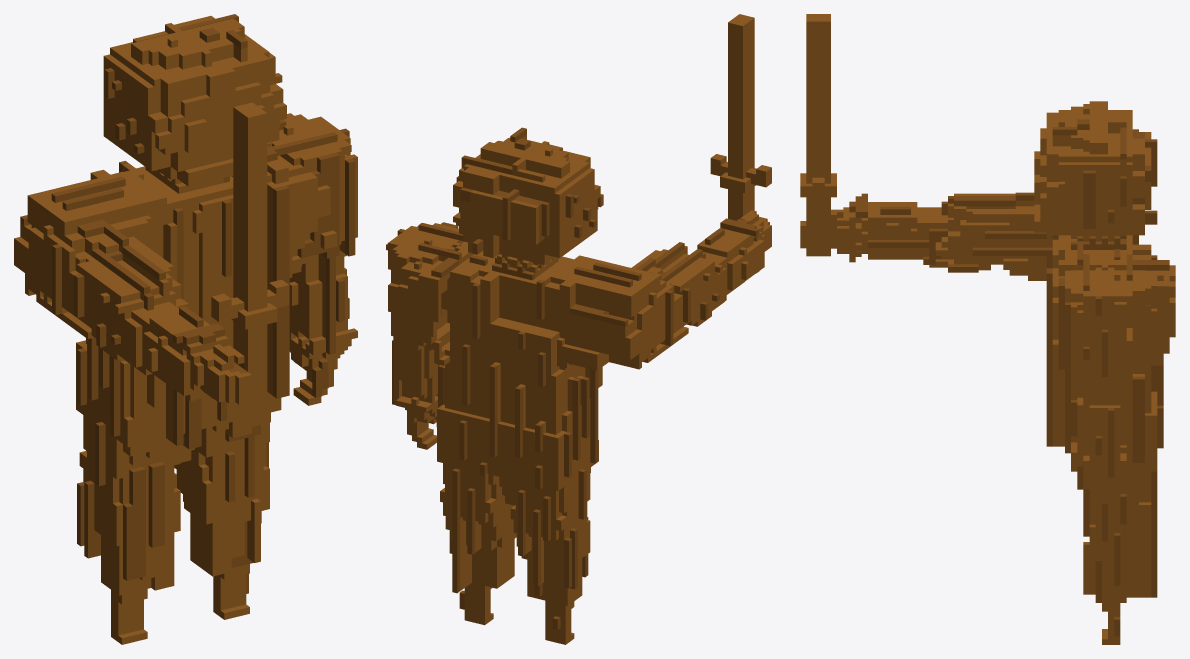
The model's file is Player-0-Saxy Guy.obj.
The picture shows the model from 3 angles, left to right: view 1: azimuth 30°, elevation 25°; view 2: azimuth 150°, elevation 25°; view 3: azimuth 270°, elevation 25°; orthographic projection. The views are drawn at different scales.
Parts seen in each view (by area): view 1: Saxy Guy; view 2: Saxy Guy; view 3: Saxy Guy.
Part boxes in pixels (bbox=[...]): Saxy Guy: bbox=[14, 14, 357, 644]; Saxy Guy: bbox=[386, 14, 771, 644]; Saxy Guy: bbox=[800, 14, 1175, 644].
Bounding box in the file's own units: 5 × 10 × 6.1.
1 material, 1 textured.
